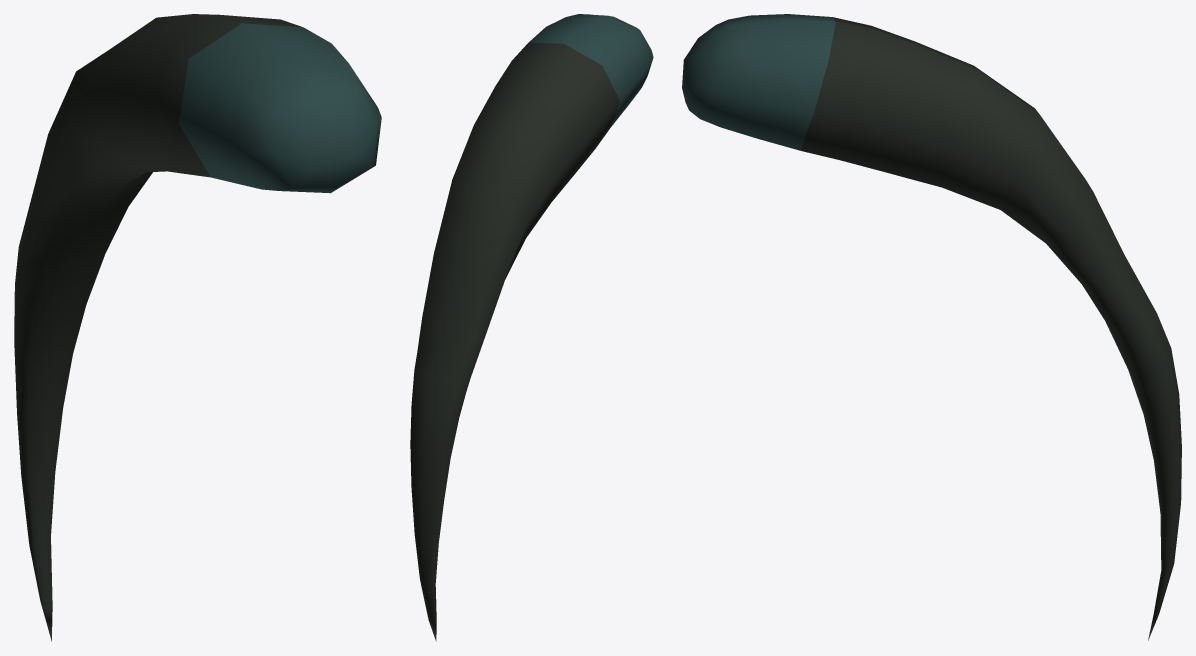
The model's file is plants-leafy-plants-horn-sprout_v4.glb.
3 views of the same model, side by side, from view 1: azimuth 30°, elevation 25°; view 2: azimuth 150°, elevation 25°; view 3: azimuth 270°, elevation 25° (orthographic). The views are drawn at different scales.
Visible parts, largest first — view 1: Horn Sprout_v4; view 2: Horn Sprout_v4; view 3: Horn Sprout_v4.
Part boxes in pixels (x1,y1,x2,y2): Horn Sprout_v4: (14, 14, 381, 641); Horn Sprout_v4: (410, 14, 653, 641); Horn Sprout_v4: (682, 14, 1181, 640).
Size of the model in its own units: 0.0438 by 0.2 by 0.1459.
